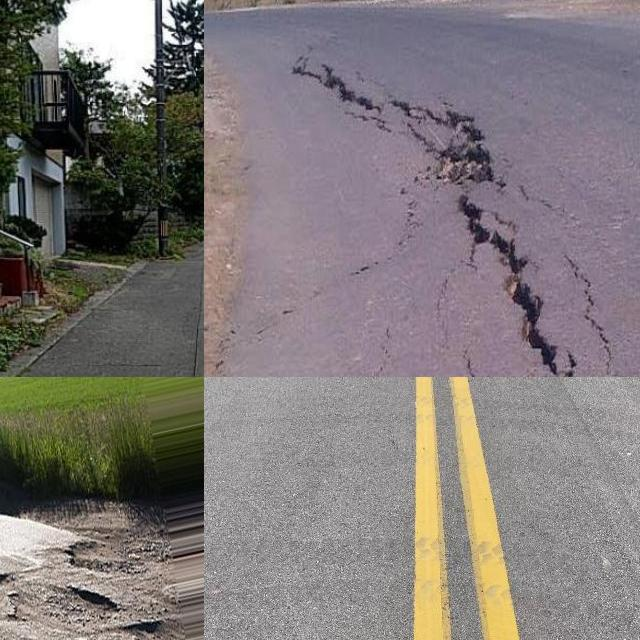Memanjang: (273, 49, 596, 377), (179, 267, 204, 377)
